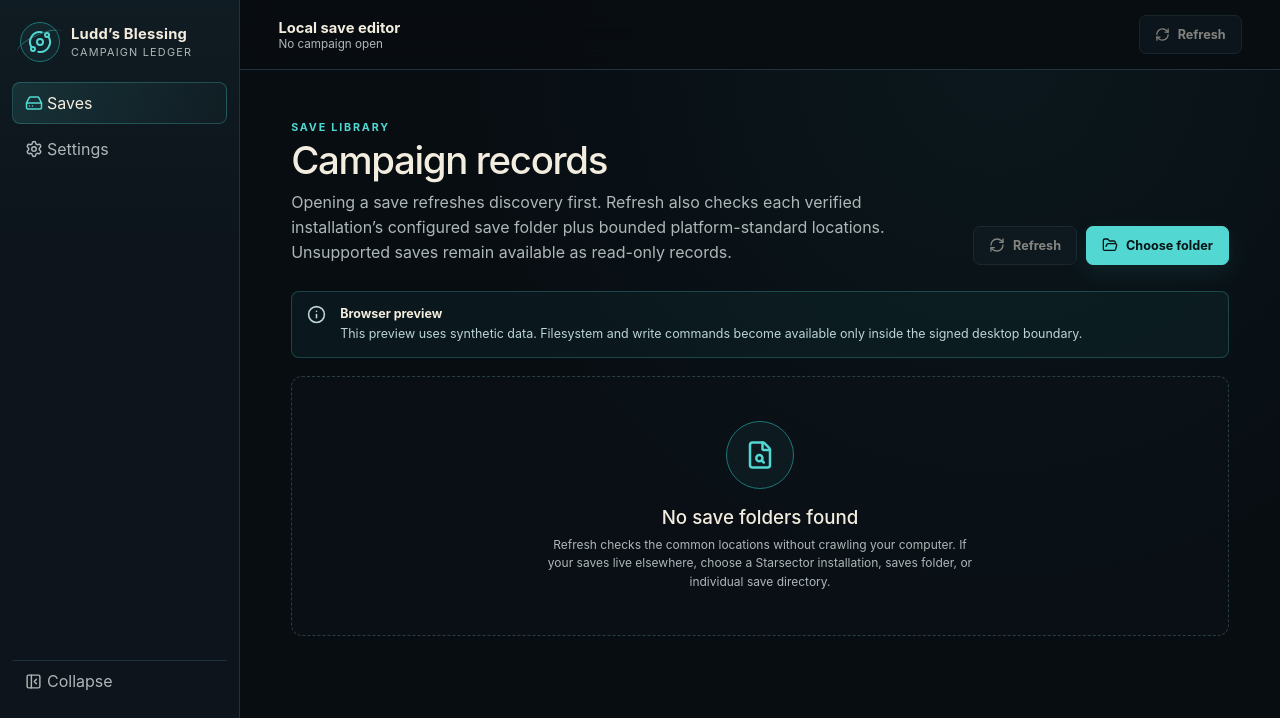
it: Ludd’s Blessing app shell › loads, stages, and revision-binds supported installation game settings
Click the button "Settings".
click(120, 149)  # box [12,128,227,170]
(page scrolled)
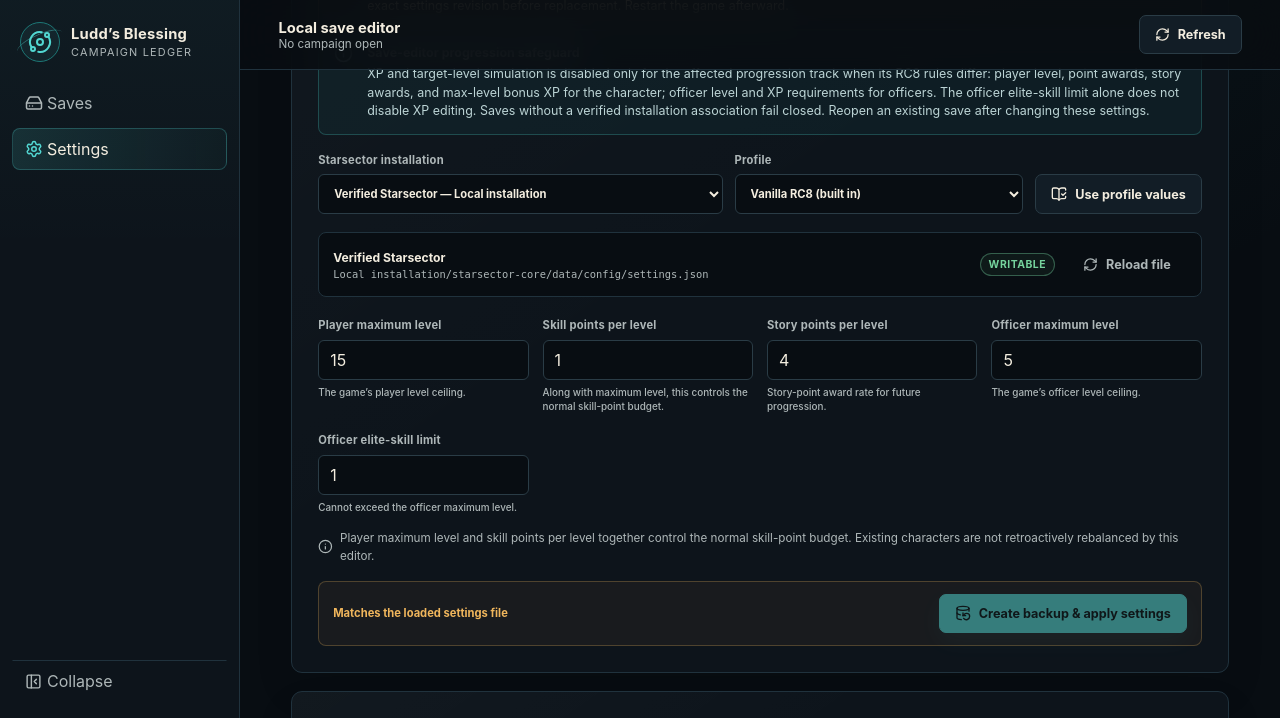
Replace the text in the number field labelled "Player maximum level" with "30" at (423, 360), box [318,340,529,380]
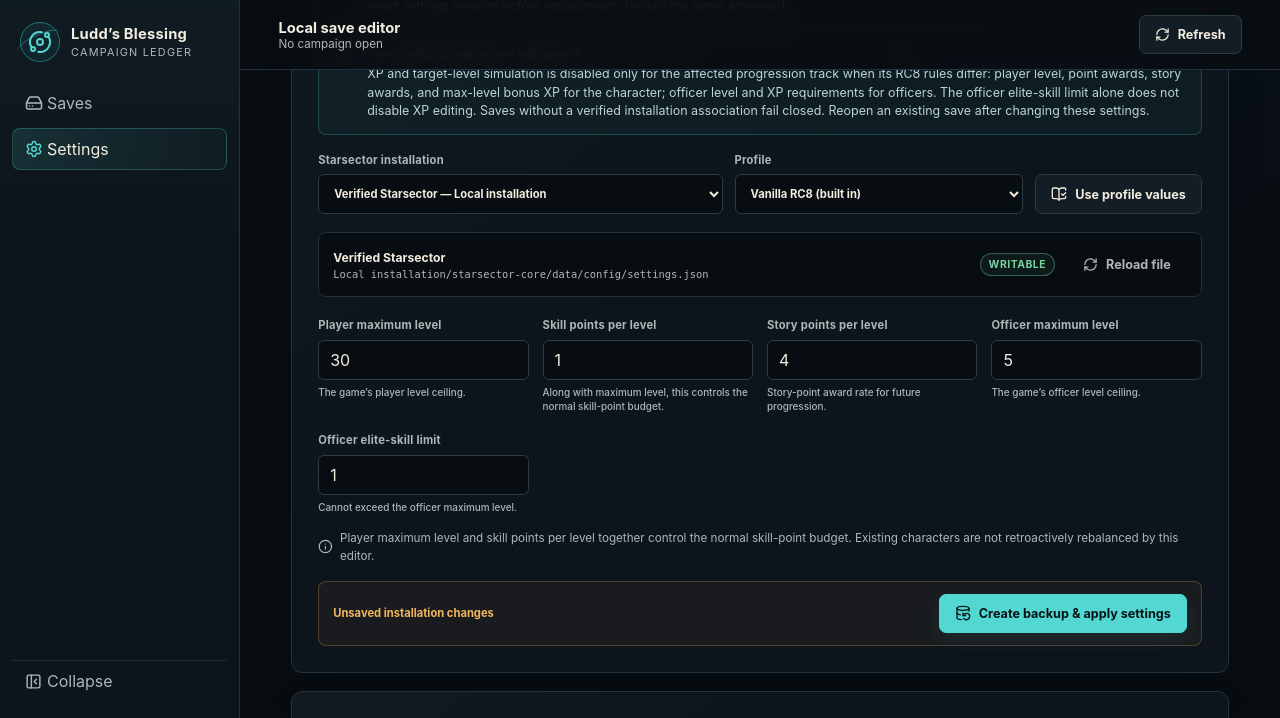
Check: the text "Unsaved installation changes" is shown, box [333,606,494,620]
Click the button "Create backup & apply settings".
click(1063, 613)  # box [939,594,1187,633]
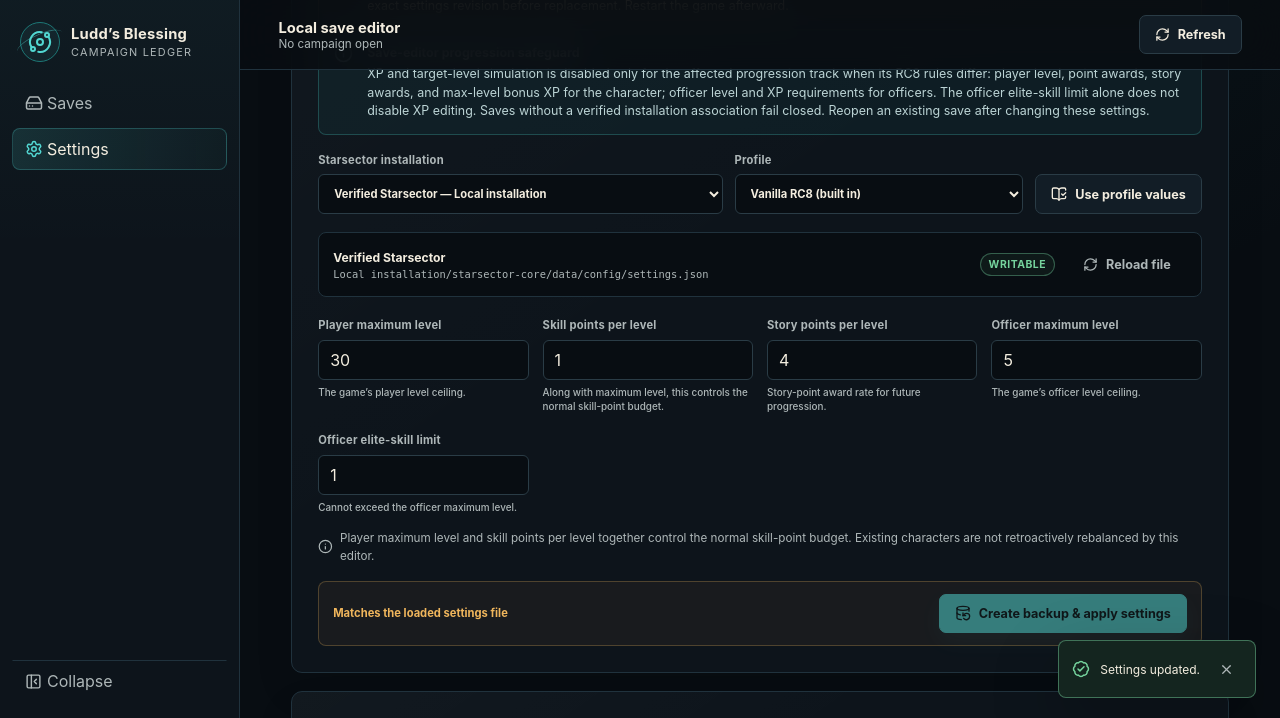
Check: the text "Matches the loaded settings file" is shown, box [333,606,508,620]
